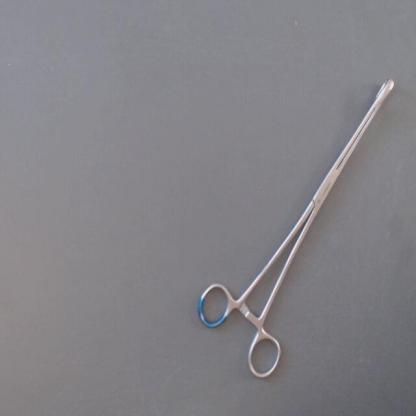Sponge Forceps: (186, 68, 404, 386)
